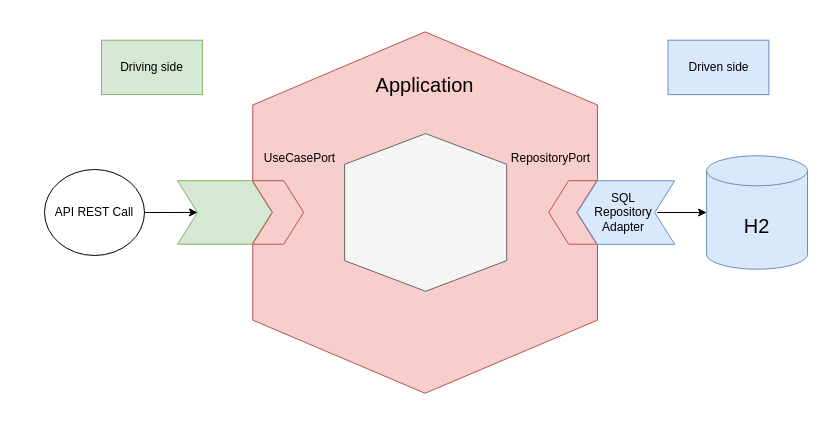
Some shapes in this 825 by 424 pixel diagram are drawn without their labels. The centre of each missing label's shape, as x and y in pixels:
Domain: (425,212)
Rest Controller Adapter: (224,212)
